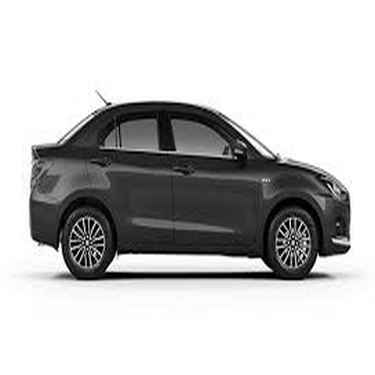car: (1, 82, 364, 281)
